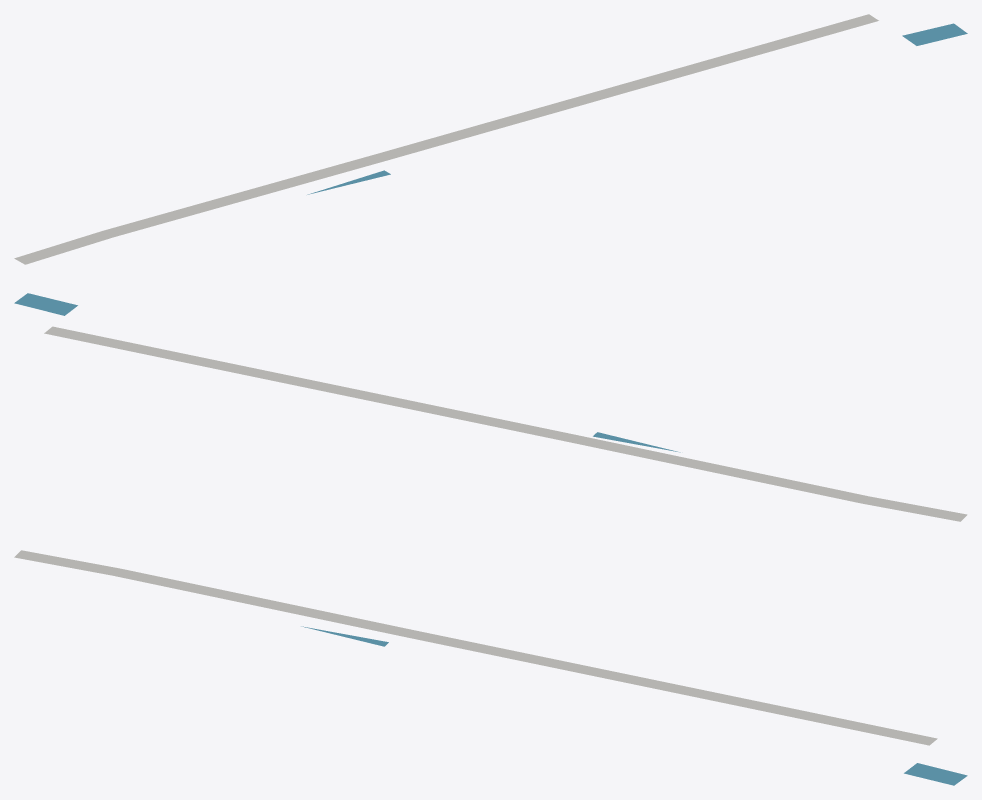
Rendered from tile_-11_5.glb.
The picture shows the model from 3 angles, top to bottom: view 1: azimuth 30°, elevation 25°; view 2: azimuth 150°, elevation 25°; view 3: azimuth 330°, elevation 25°; orthographic projection.
Visible parts, largest first — view 1: roads_sidewalk, nature_water; view 2: roads_sidewalk, nature_water; view 3: roads_sidewalk, nature_water.
Boxes of the visible parts, bbox=[...] form: roads_sidewalk: bbox=[14, 14, 878, 264]; nature_water: bbox=[307, 23, 967, 194]; roads_sidewalk: bbox=[44, 326, 967, 521]; nature_water: bbox=[14, 293, 680, 452]; roads_sidewalk: bbox=[14, 550, 937, 745]; nature_water: bbox=[301, 626, 967, 785].
Size of the model in its own units: 145 by 0.5 by 12.17.
